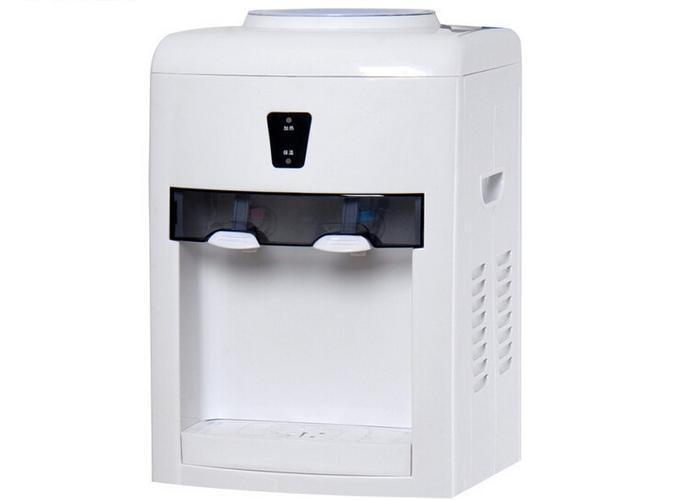Dispenser: (148, 7, 522, 494)
